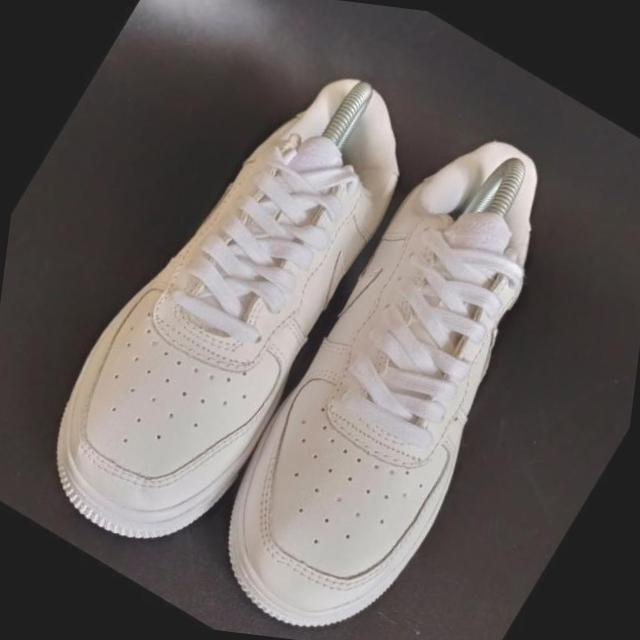nike_fake_airforce: (0, 4, 450, 605), (172, 101, 623, 640)
